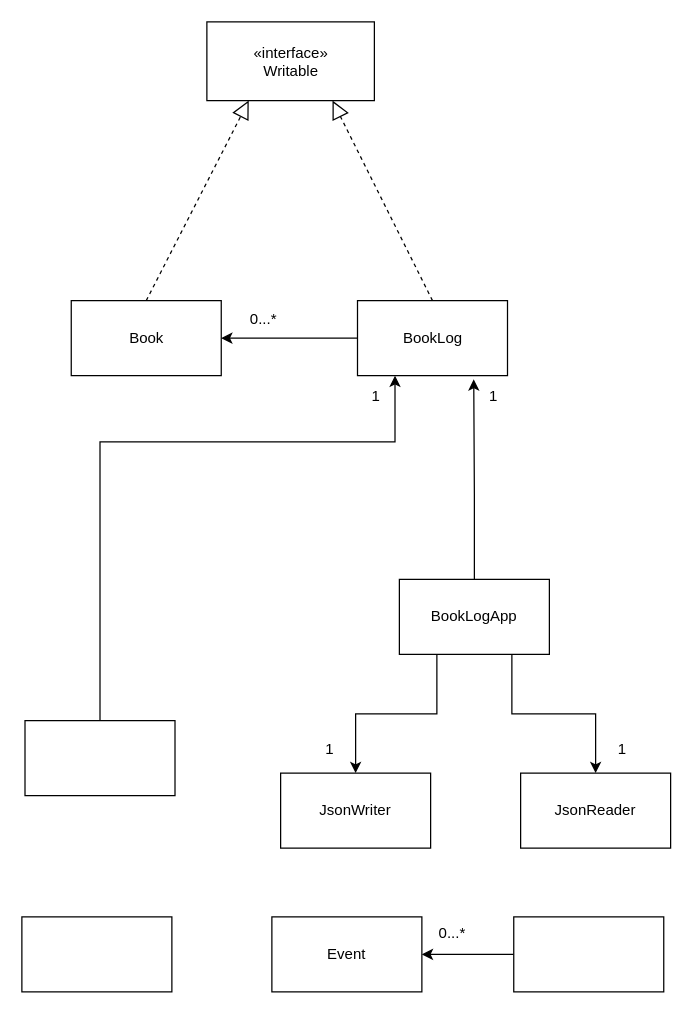
The diagram is 693 pixels wide and 1014 high, and some of its shapes have lost their labels. Each missing label, with the centre of its shape:
"BookLogGUI" belongs at (x=99, y=757).
"EventLog" belongs at (x=588, y=954).
"Main" belongs at (x=96, y=954).
